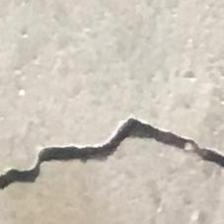Crack: (0, 124, 224, 197)
